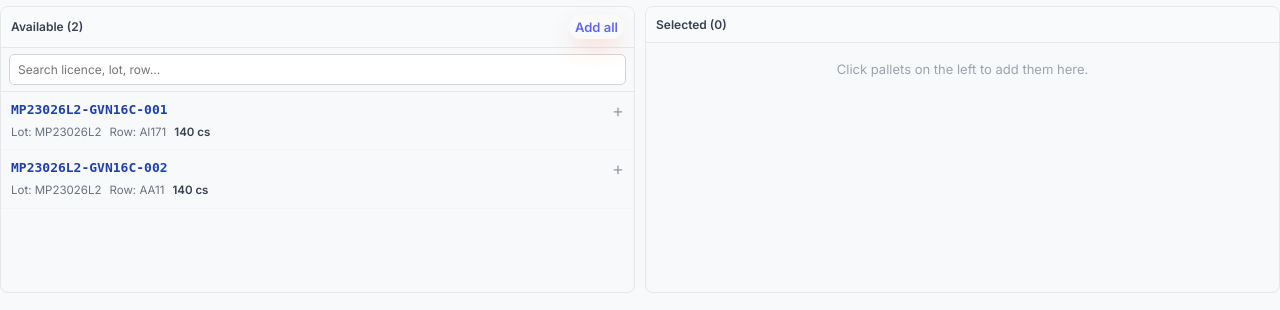
Test case: PalletPicker row labelling › still matches licence and lot
The image size is (1280, 310).
Type "GVN16C-002" into the field with placeholder "Search licence, lot, row...".
click(318, 70); type("GVN16C-002")  # box [9,54,626,85]
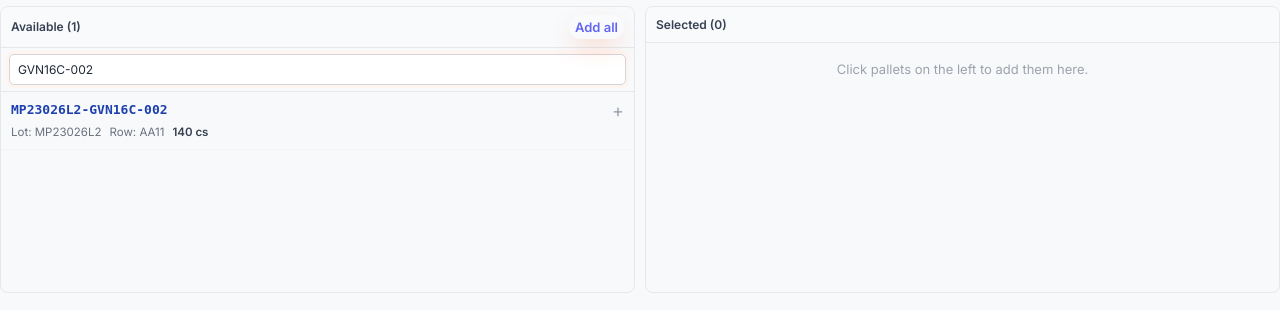
Expected: the text "MP23026L2-GVN16C-002" is shown, [11,102,168,117]
Result: the text "MP23026L2-GVN16C-001" is gone
